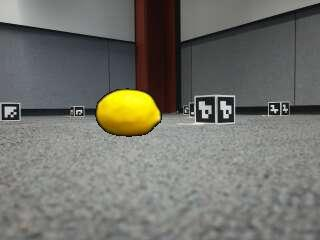lemon: (97, 90, 160, 136)
